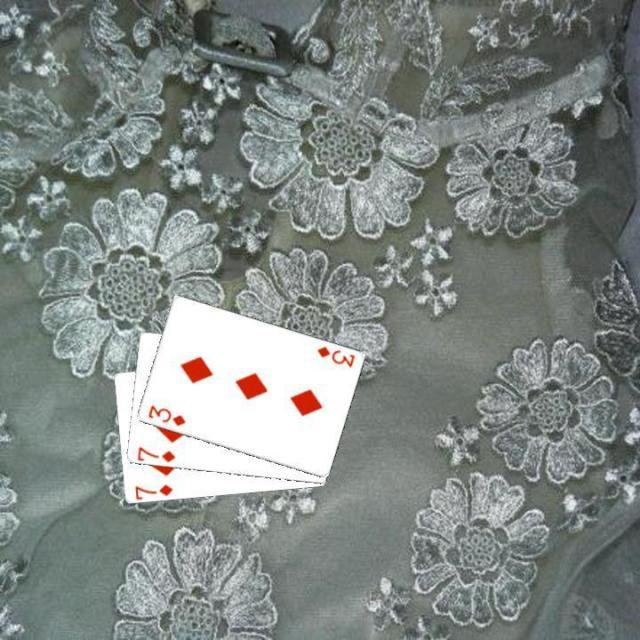3D: (144, 401, 188, 429), (313, 342, 357, 368)
7D: (133, 443, 177, 465), (131, 481, 175, 501)
